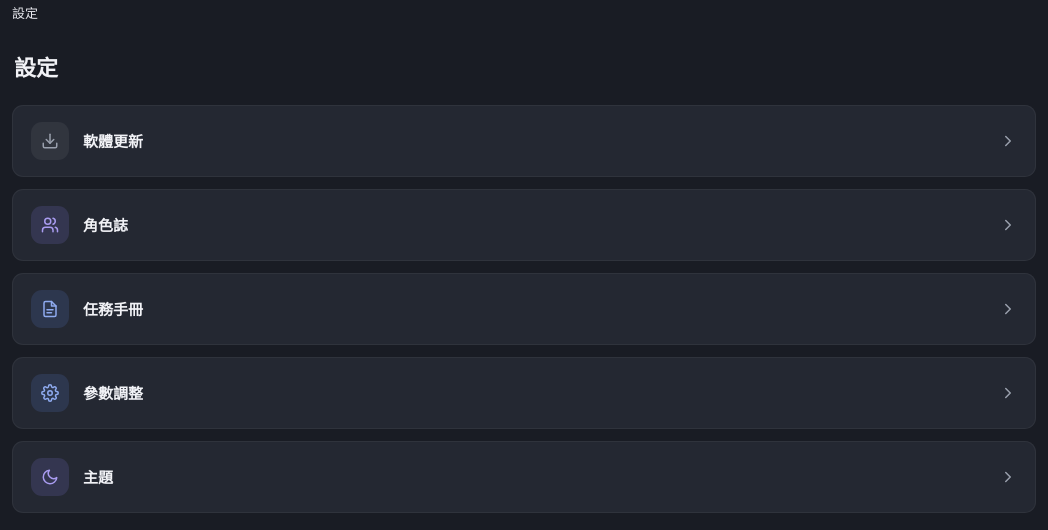
Scenario: SettingsPage · unified breadcrumb header (T-8f6e) › 軟體更新: 設定 › 軟體更新 + title, no back button
Click the button "軟體更新" at (50, 140), box [12, 104, 1036, 176]
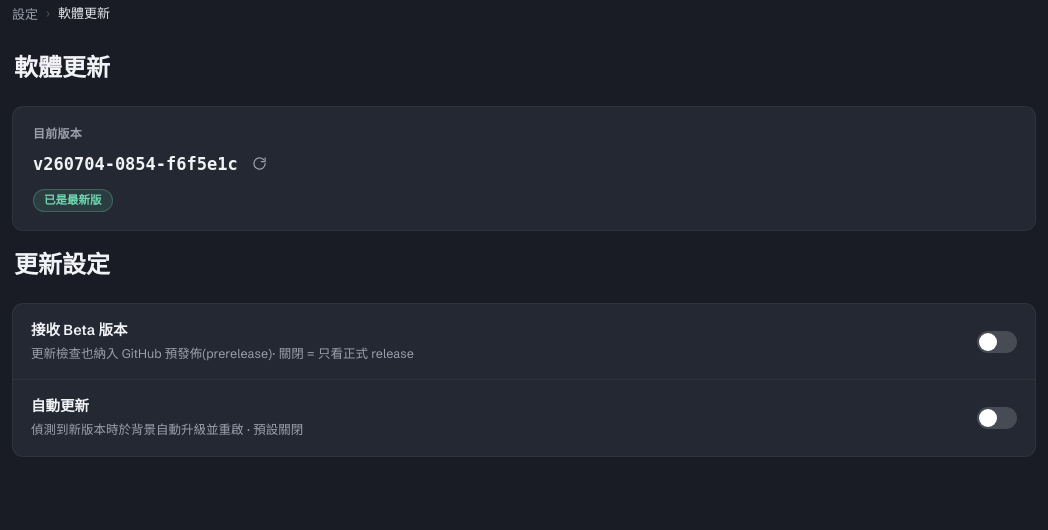
Result: the heading "軟體更新" is shown at [14, 52, 110, 82]
